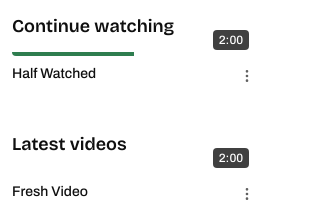
Test: Home › marking a continue-watching video watched removes it from the section
Click the button named "Actions for Half Watched": coordinates (247, 76) top-left (233, 62), bottom-right (261, 90)
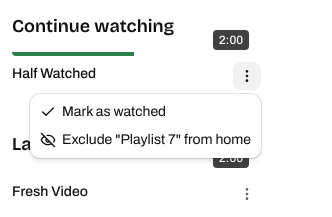
Click the menu item "Mark as watched": coordinates (103, 112) top-left (40, 104), bottom-right (166, 120)
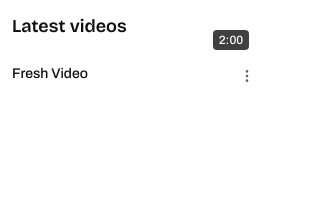
Check: the link "Half Watched" is gone
Check: the heading "Continue watching" is gone
